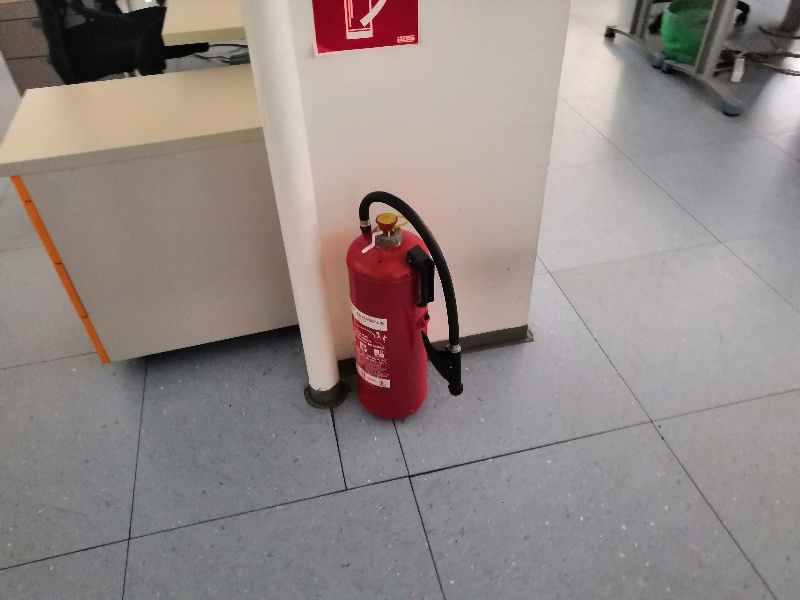vataparat: (345, 190, 464, 419)
